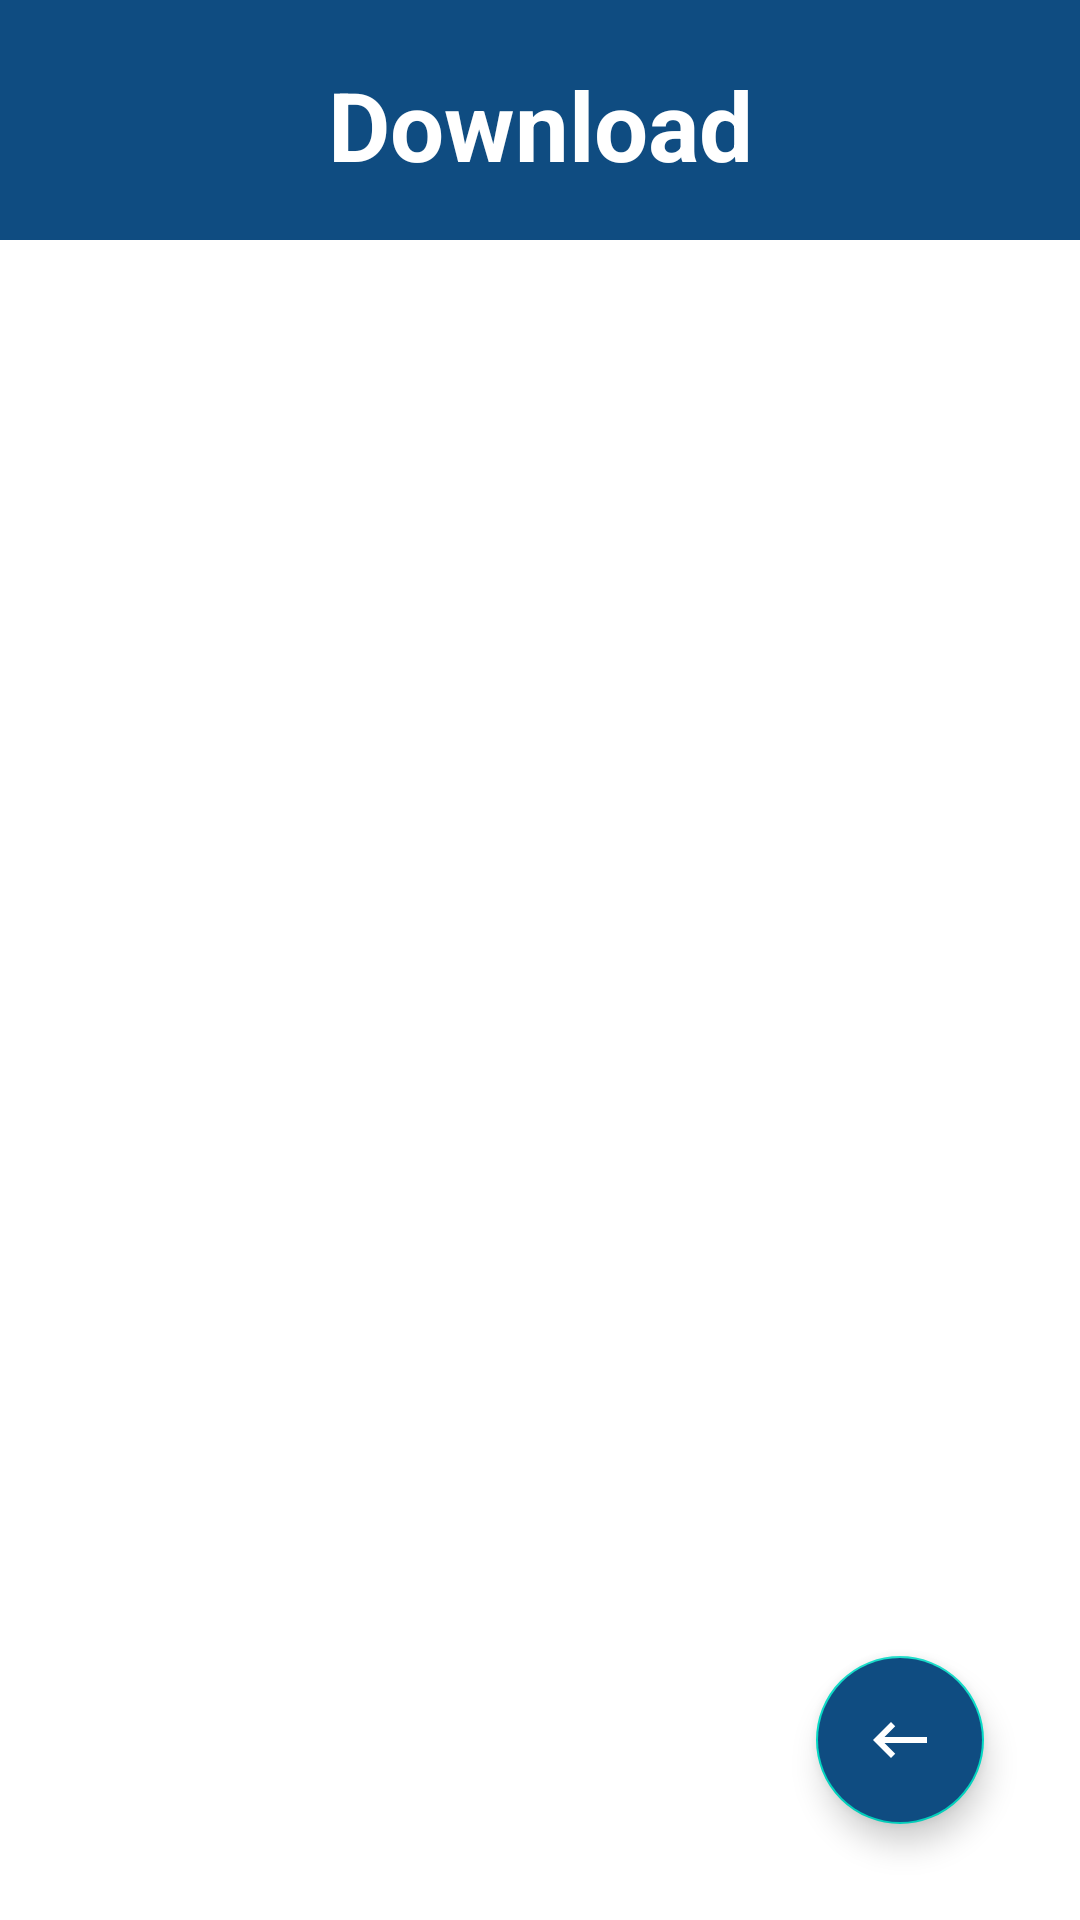

Icons on this 1080px x 1920px Android screen, each with its box as {"left": x1, "top": y1, "right": x2, "bottom": y2}:
back: {"left": 816, "top": 1656, "right": 984, "bottom": 1824}
